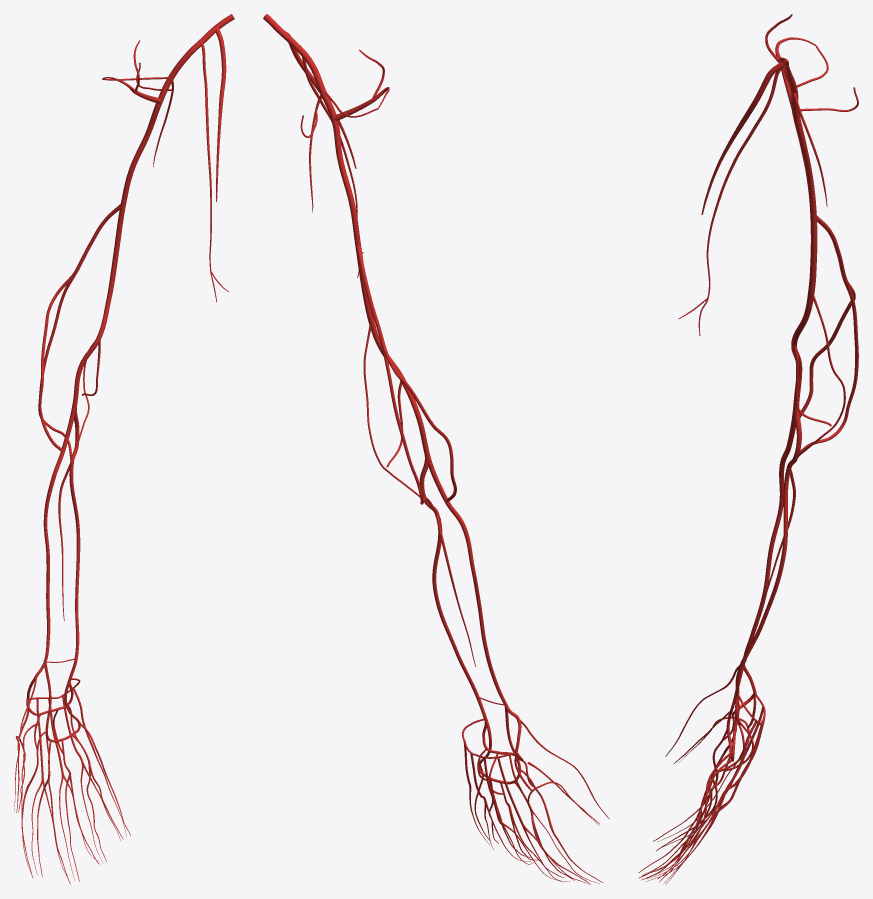
The model's file is circulatorio-axillary-artery-r.glb.
The picture shows the model from 3 angles, left to right: view 1: azimuth 30°, elevation 25°; view 2: azimuth 150°, elevation 25°; view 3: azimuth 270°, elevation 25°; orthographic projection. The views are drawn at different scales.
Visible parts, largest first — view 1: Brachial artery.r, Proper palmar digital arteries.r, Radial artery.r, Dorsal digital arteries of hand.r, Ulnar artery.r, Dorsal metacarpal arteries.r, Lateral thoracic artery.r, Radial collateral artery.r, Pectoral branches of thoraco-acromial artery.r, Axillary artery.r, Superficial palmar arch.r; view 2: Brachial artery.r, Radial artery.r, Proper palmar digital arteries.r, Ulnar artery.r, Dorsal digital arteries of hand.r, Dorsal metacarpal arteries.r, Radial collateral artery.r, Axillary artery.r; view 3: Brachial artery.r, Proper palmar digital arteries.r, Ulnar artery.r, Radial artery.r, Dorsal digital arteries of hand.r, Lateral thoracic artery.r, Dorsal metacarpal arteries.r, Pectoral branches of thoraco-acromial artery.r, Radial collateral artery.r, Anterior circumflex humeral artery.r.
Part boxes in pixels (<box>): Brachial artery.r: <box>73,78,172,402</box>; Proper palmar digital arteries.r: <box>16,677,130,884</box>; Radial artery.r: <box>26,402,76,699</box>; Dorsal digital arteries of hand.r: <box>14,736,126,881</box>; Ulnar artery.r: <box>68,403,80,679</box>; Dorsal metacarpal arteries.r: <box>19,688,92,775</box>; Lateral thoracic artery.r: <box>200,42,228,302</box>; Radial collateral artery.r: <box>38,269,76,451</box>; Pectoral branches of thoraco-acromial artery.r: <box>216,40,226,201</box>; Axillary artery.r: <box>168,14,234,80</box>; Superficial palmar arch.r: <box>44,662,80,742</box>; Brachial artery.r: <box>321,93,429,452</box>; Radial artery.r: <box>425,452,521,753</box>; Proper palmar digital arteries.r: <box>474,720,609,883</box>; Ulnar artery.r: <box>419,452,486,719</box>; Dorsal digital arteries of hand.r: <box>469,781,599,884</box>; Dorsal metacarpal arteries.r: <box>463,740,532,822</box>; Radial collateral artery.r: <box>380,337,456,501</box>; Axillary artery.r: <box>263,14,326,94</box>; Brachial artery.r: <box>790,91,817,403</box>; Proper palmar digital arteries.r: <box>638,665,739,881</box>; Ulnar artery.r: <box>735,403,801,694</box>; Radial artery.r: <box>740,403,795,693</box>; Dorsal digital arteries of hand.r: <box>643,716,749,884</box>; Lateral thoracic artery.r: <box>678,68,781,335</box>; Dorsal metacarpal arteries.r: <box>722,696,765,797</box>; Pectoral branches of thoraco-acromial artery.r: <box>701,71,772,214</box>; Radial collateral artery.r: <box>799,277,855,418</box>; Anterior circumflex humeral artery.r: <box>765,14,815,108</box>.
Size of the model in its own units: 0.2534 by 0.7071 by 0.1492.
